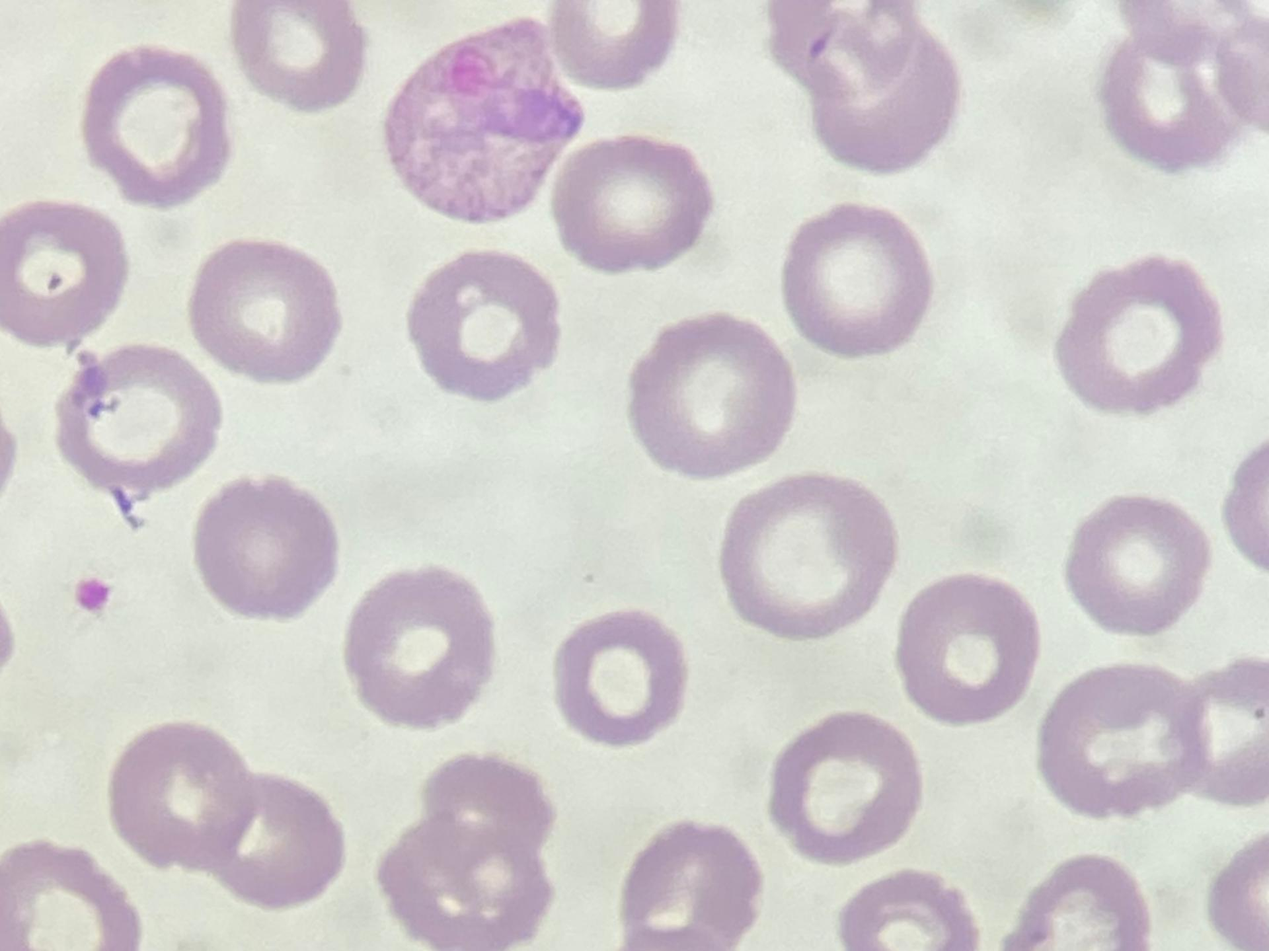Infected: (385, 15, 586, 223)
Uninfected: (720, 471, 898, 637), (631, 313, 799, 477), (1038, 660, 1211, 818), (1056, 255, 1223, 417), (53, 342, 221, 494), (344, 567, 499, 730), (780, 202, 931, 358), (405, 251, 561, 402), (83, 50, 233, 207), (375, 813, 548, 947), (768, 711, 919, 864), (549, 134, 713, 271), (187, 240, 343, 384), (109, 721, 252, 873), (805, 38, 963, 174), (896, 574, 1040, 723), (195, 769, 350, 906), (192, 475, 335, 621), (1064, 494, 1213, 634), (1104, 32, 1247, 174), (0, 197, 132, 350), (554, 612, 689, 746), (1157, 663, 1269, 810), (230, 0, 371, 115), (765, 0, 923, 102), (996, 855, 1151, 951), (0, 841, 135, 951), (420, 754, 551, 857), (542, 0, 673, 90)
